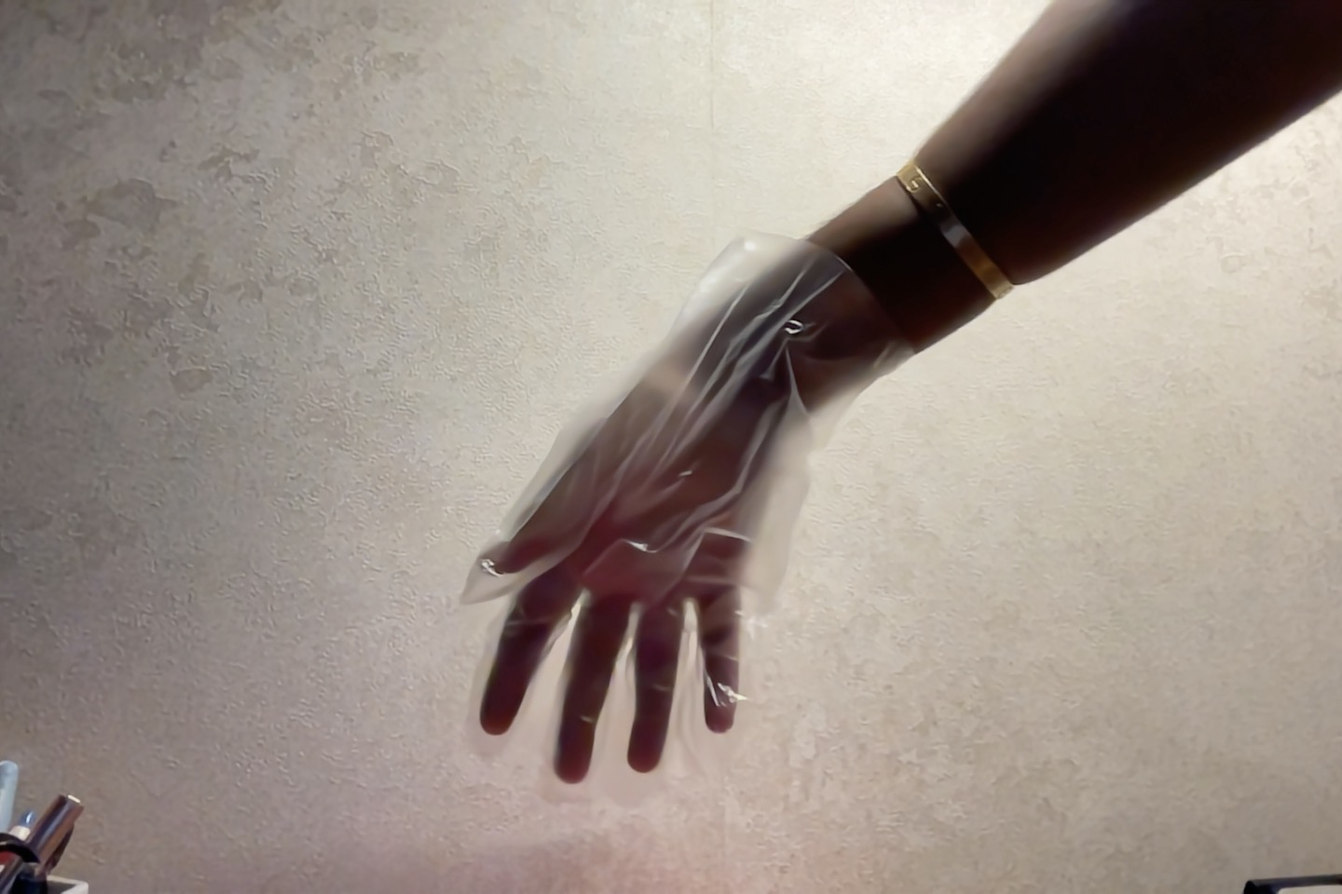gloves: (376, 109, 933, 814)
